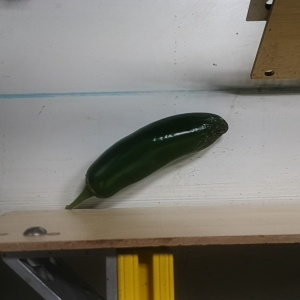Cut Point: (78, 171, 110, 202)
